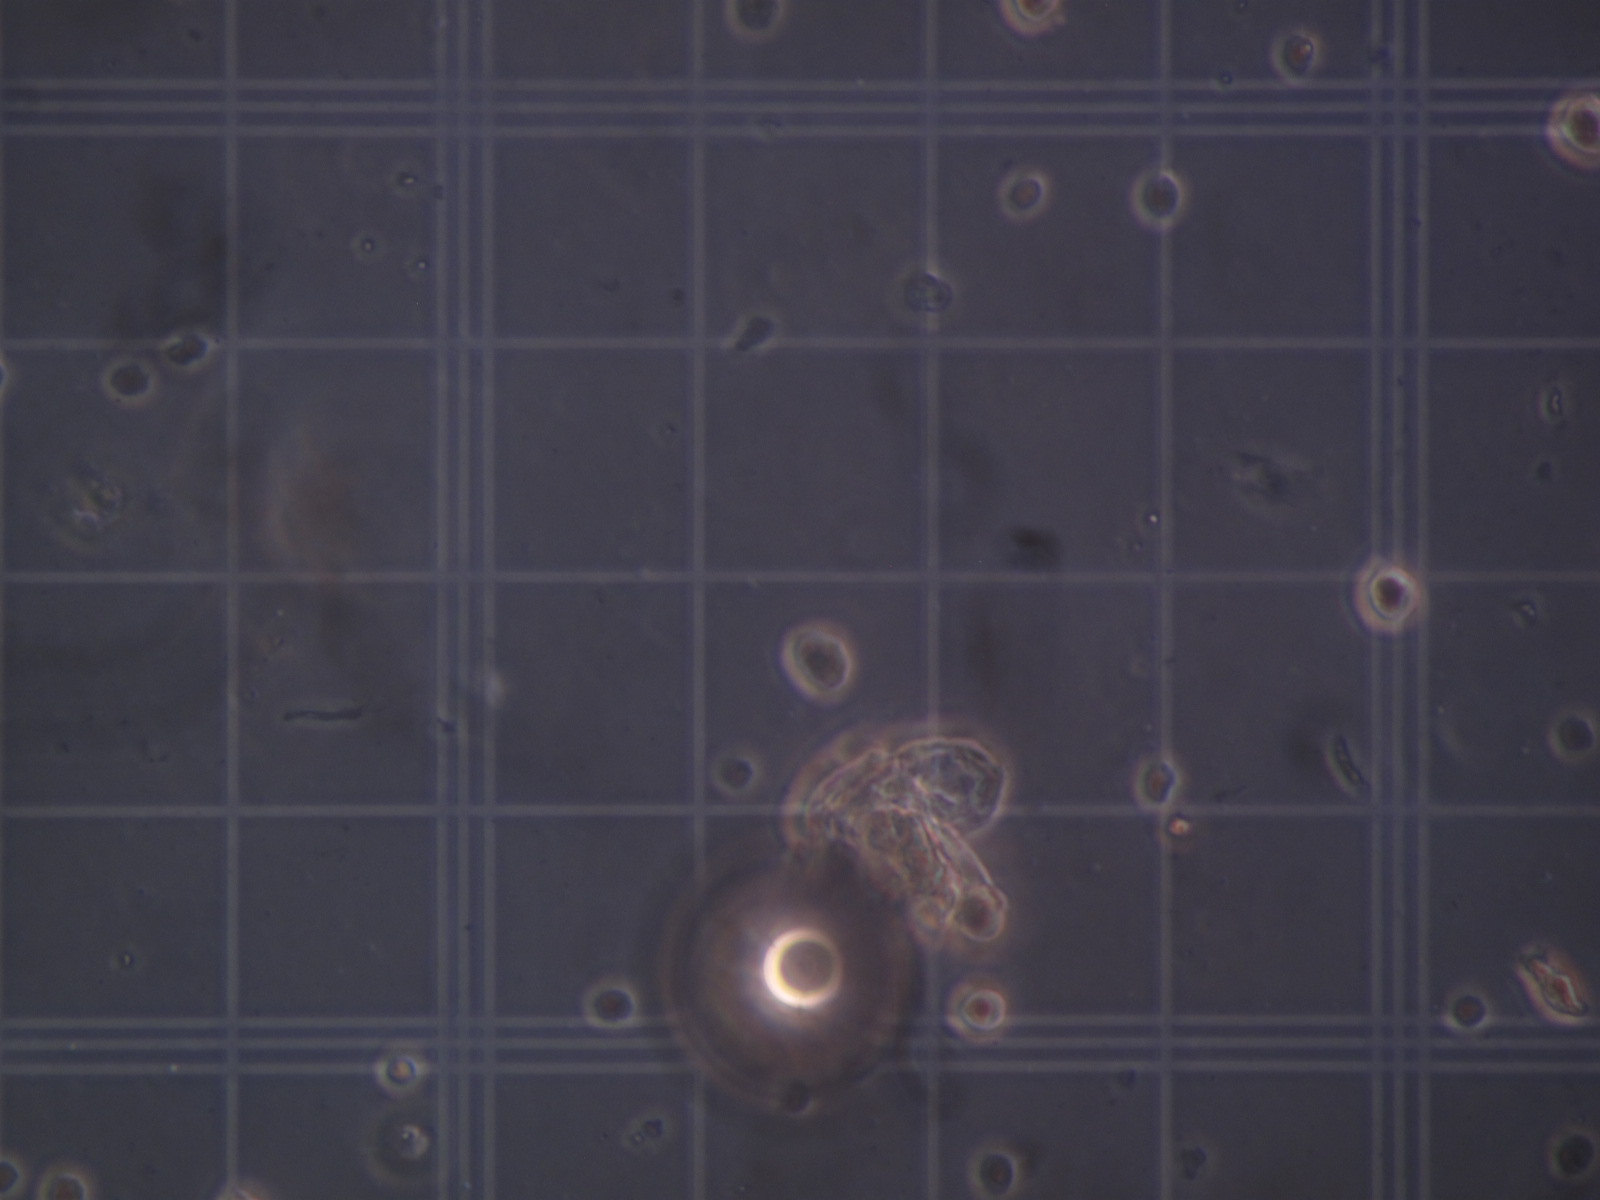hemo: (1514, 942, 1595, 1026), (362, 1105, 432, 1190), (781, 621, 854, 702), (1352, 556, 1424, 633), (891, 261, 960, 329), (945, 977, 1010, 1045), (1545, 93, 1600, 170), (1130, 168, 1186, 229), (582, 977, 641, 1032), (966, 1145, 1023, 1200), (1269, 28, 1322, 84), (1547, 1124, 1600, 1181), (100, 355, 159, 406), (1548, 708, 1599, 763), (711, 747, 763, 798), (998, 168, 1048, 221), (1133, 755, 1180, 811), (724, 1, 787, 42), (374, 1047, 427, 1095), (1443, 984, 1493, 1034), (161, 328, 214, 372), (37, 1163, 93, 1200), (999, 3, 1062, 35), (1, 1150, 26, 1200)
